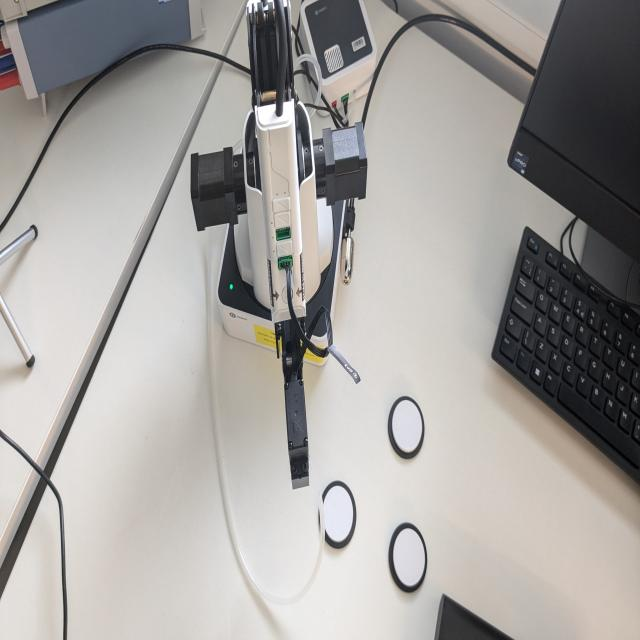Robot-end-effector-HF8z: (280, 372, 319, 498)
